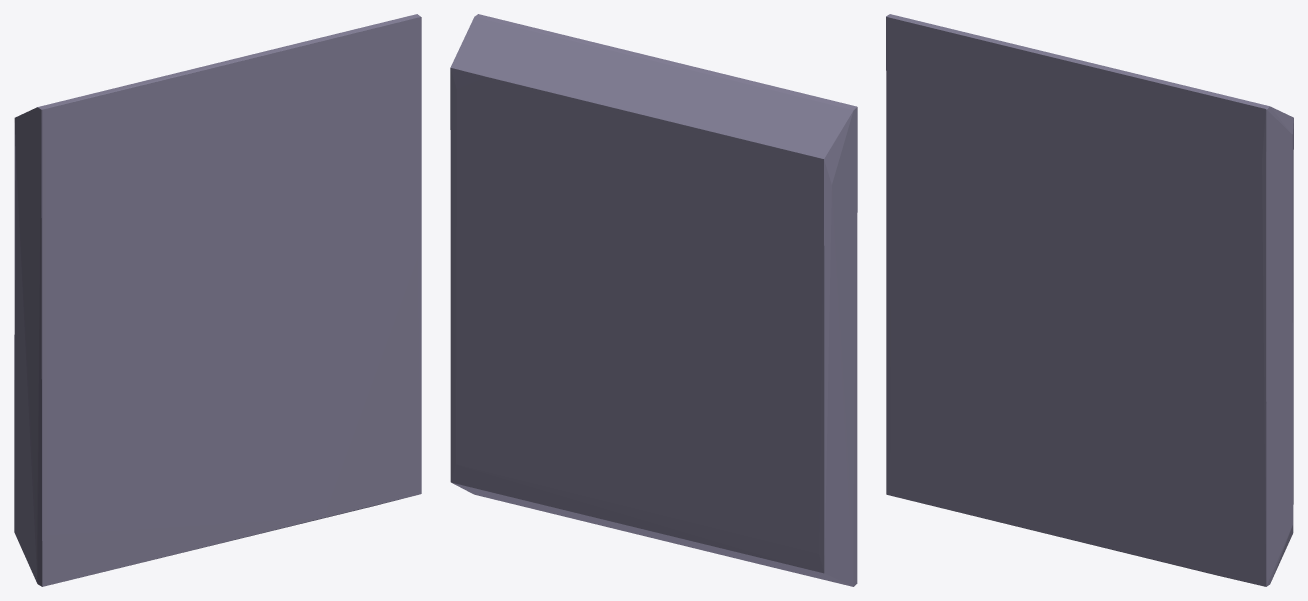
Rendered from pallet_block_a05.glb.
The picture shows the model from 3 angles, left to right: view 1: azimuth 30°, elevation 25°; view 2: azimuth 150°, elevation 25°; view 3: azimuth 330°, elevation 25°; orthographic projection.
Visible parts, largest first — view 1: geometry_0; view 2: geometry_0; view 3: geometry_0.
Part boxes in pixels (x1,y1,x2,y2): geometry_0: [14, 14, 421, 586]; geometry_0: [450, 14, 857, 586]; geometry_0: [886, 14, 1293, 586].
Bounding box in the file's own units: 0.4 × 0.48 × 0.0554.
